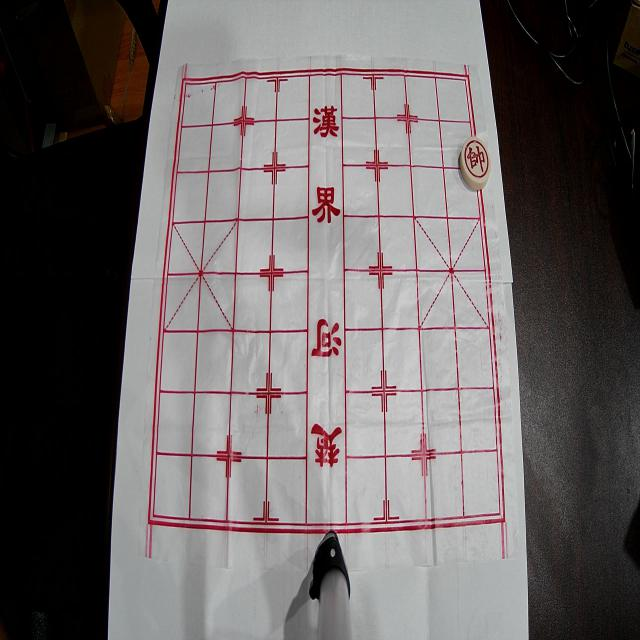red-general: (460, 137, 490, 190)
